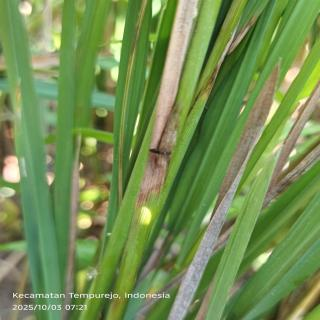Busuk-Pelepah: (133, 0, 200, 228)
